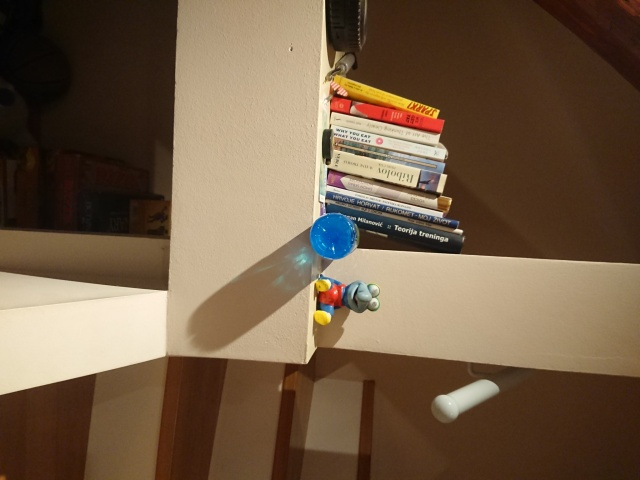Vindi Iso Sport Forest Strawberries 500mL: (307, 210, 360, 260)
